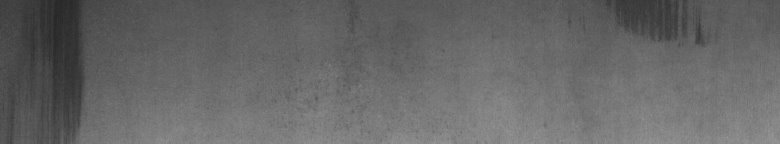ka: (648, 4, 709, 48)
